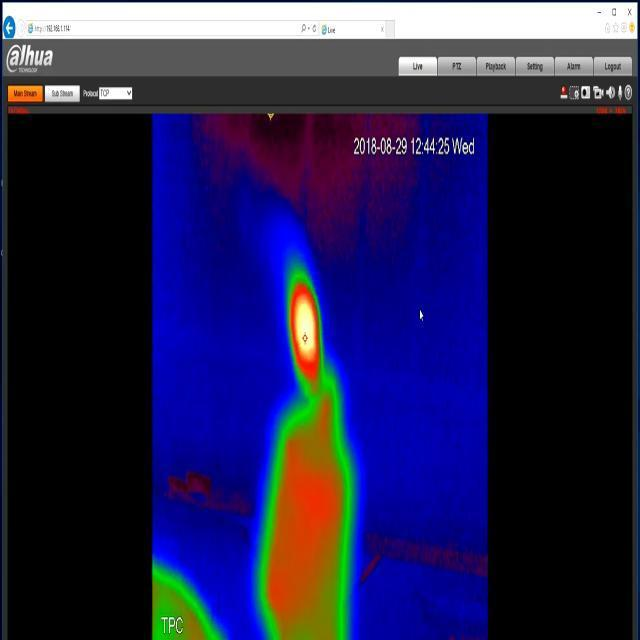fire: (289, 265, 324, 394)
